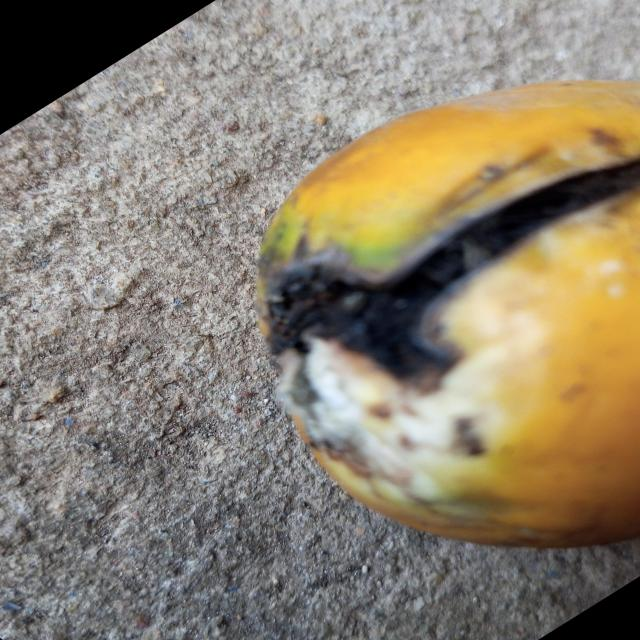damaged: (255, 80, 640, 553)
